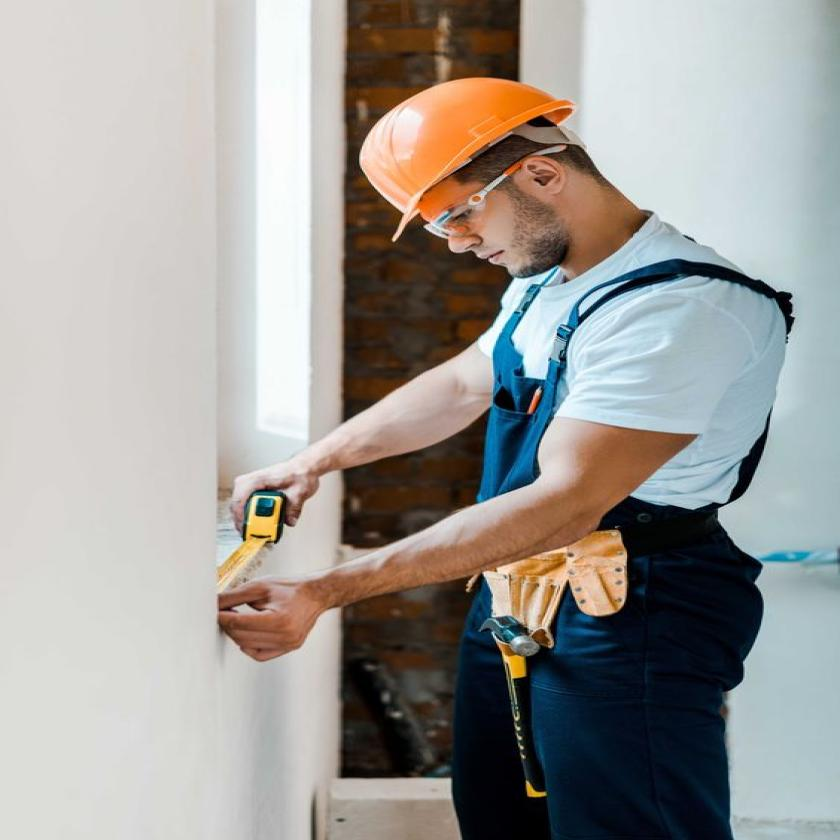Con_casco: (344, 76, 610, 296)
